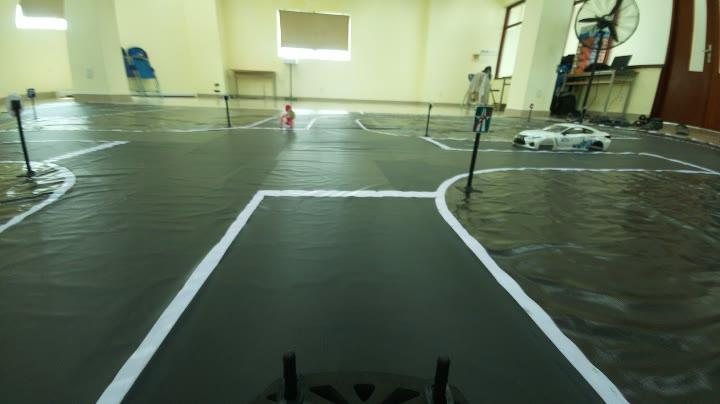highway_exit: (469, 104, 493, 134)
